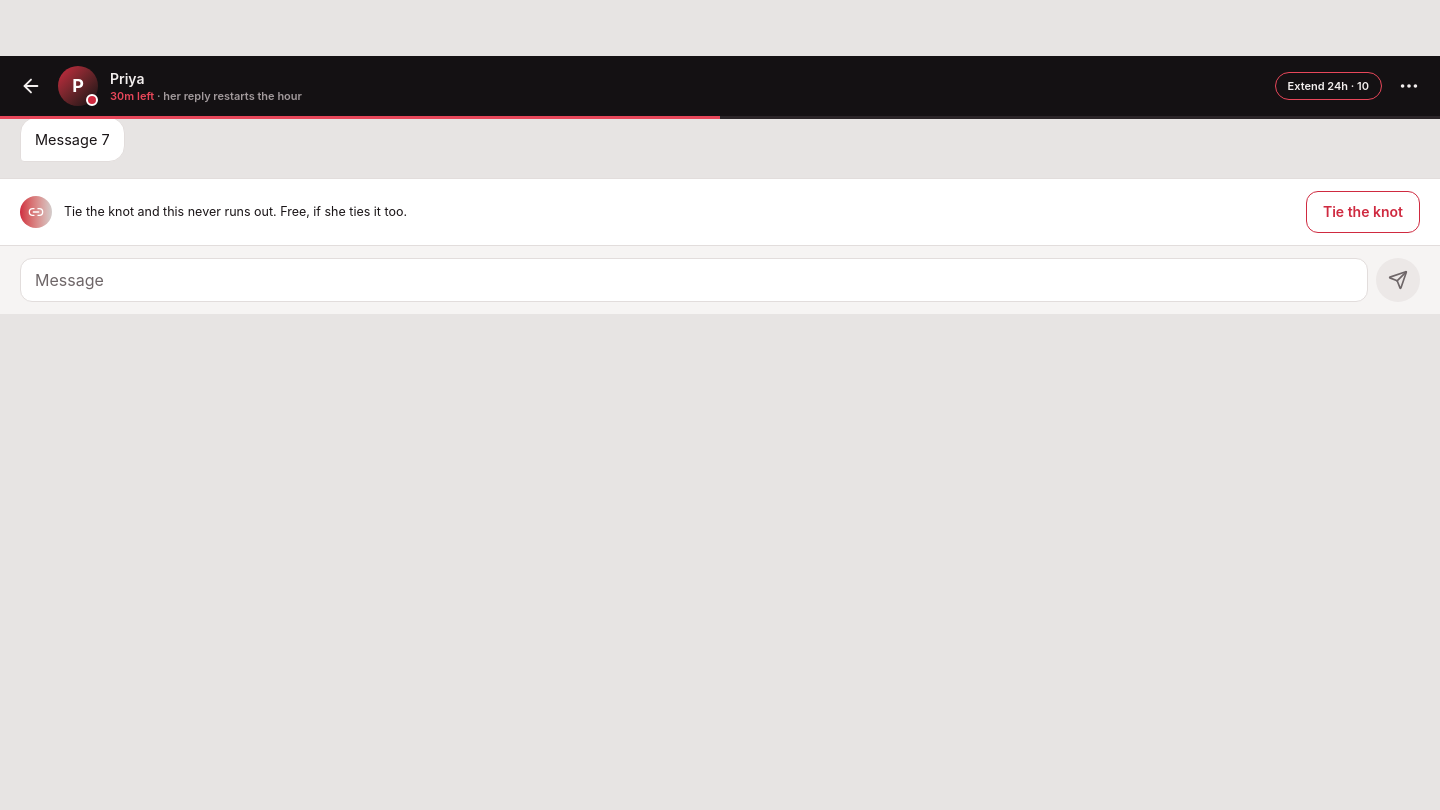
the knot (T-7.7, P-670) › celebrates the second tap for a male, in their words
The image size is (1440, 810).
Click the button "Tie the knot" at (1363, 212), box [1306, 192, 1420, 233]
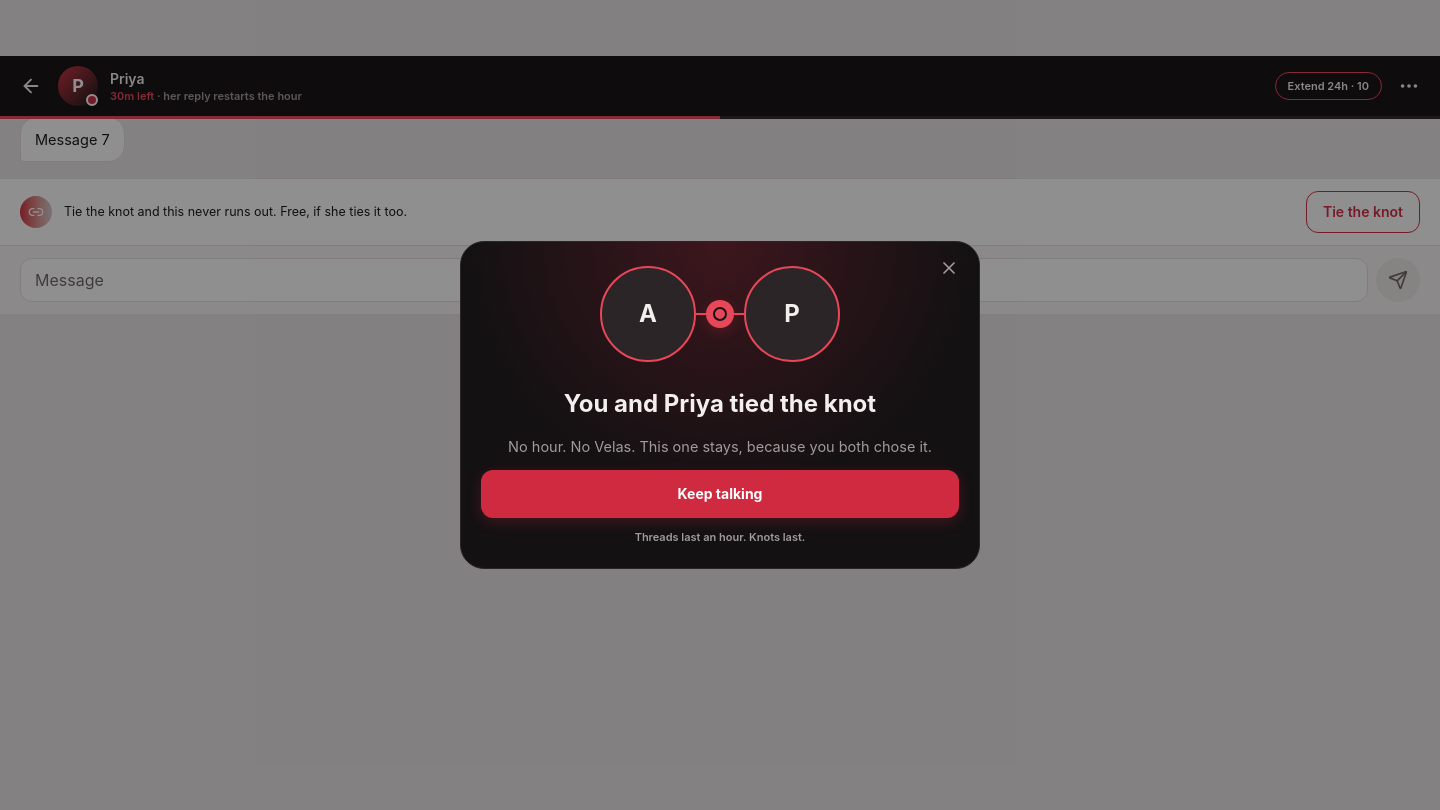
Expected: the text "No hour. No Velas. This one stays, because you both chose it." is shown, [481, 435, 959, 458]
Click the button "Keep talking" at (720, 494), box [481, 470, 959, 518]
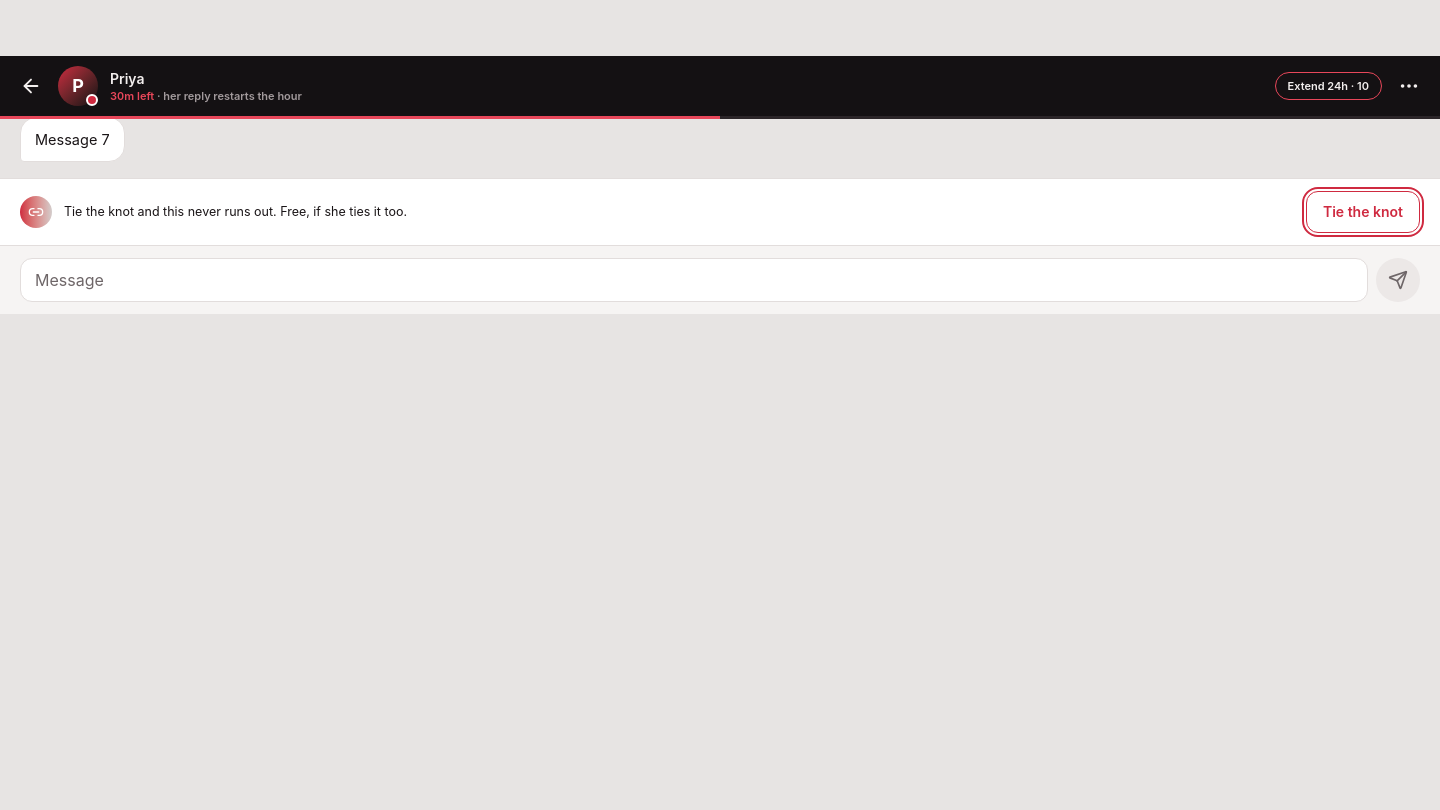
Expected: the dialog is gone
